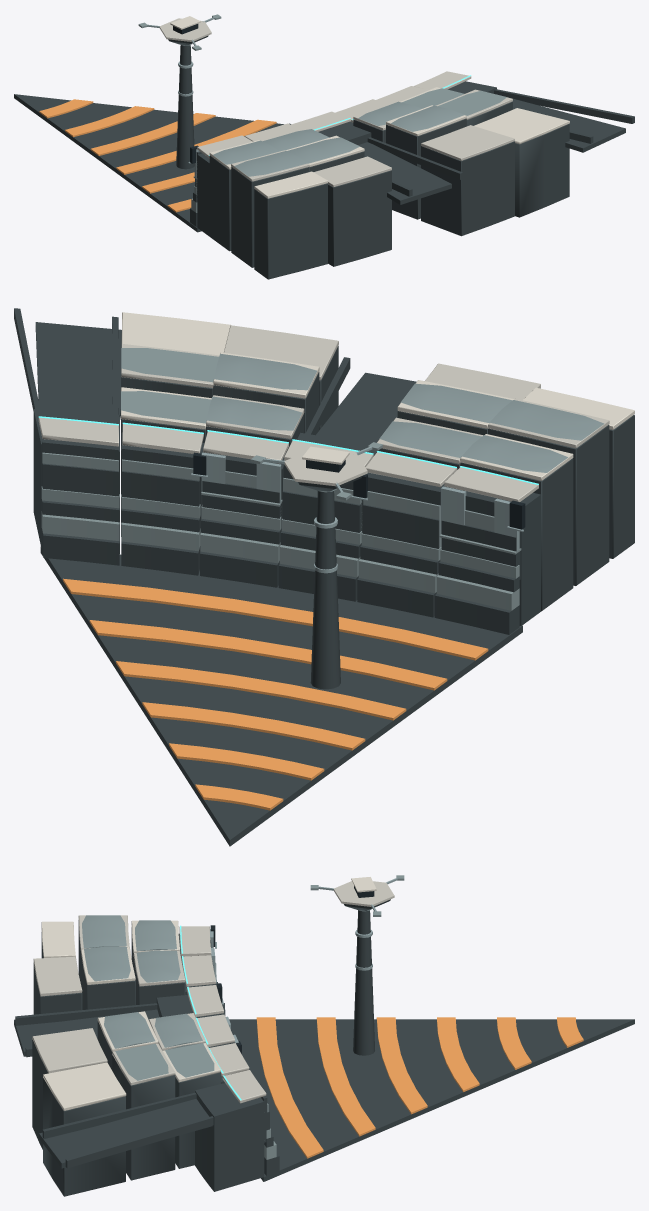
Rendered from Weather_Lung_Sector_09_Structure.glb.
The picture shows the model from 3 angles, top to bottom: view 1: azimuth 30°, elevation 25°; view 2: azimuth 150°, elevation 25°; view 3: azimuth 270°, elevation 25°; orthographic projection. The views are drawn at different scales.
Parts seen in each view (by area): view 1: Weather_Lung_Sector_09_Structure; view 2: Weather_Lung_Sector_09_Structure; view 3: Weather_Lung_Sector_09_Structure.
Boxes of the visible parts, left/top/right/bottom form: Weather_Lung_Sector_09_Structure: left=14, top=14, right=634, bottom=279; Weather_Lung_Sector_09_Structure: left=14, top=308, right=634, bottom=846; Weather_Lung_Sector_09_Structure: left=14, top=875, right=634, bottom=1196.
Bounding box in the file's own units: 6861 × 2521 × 8253.
